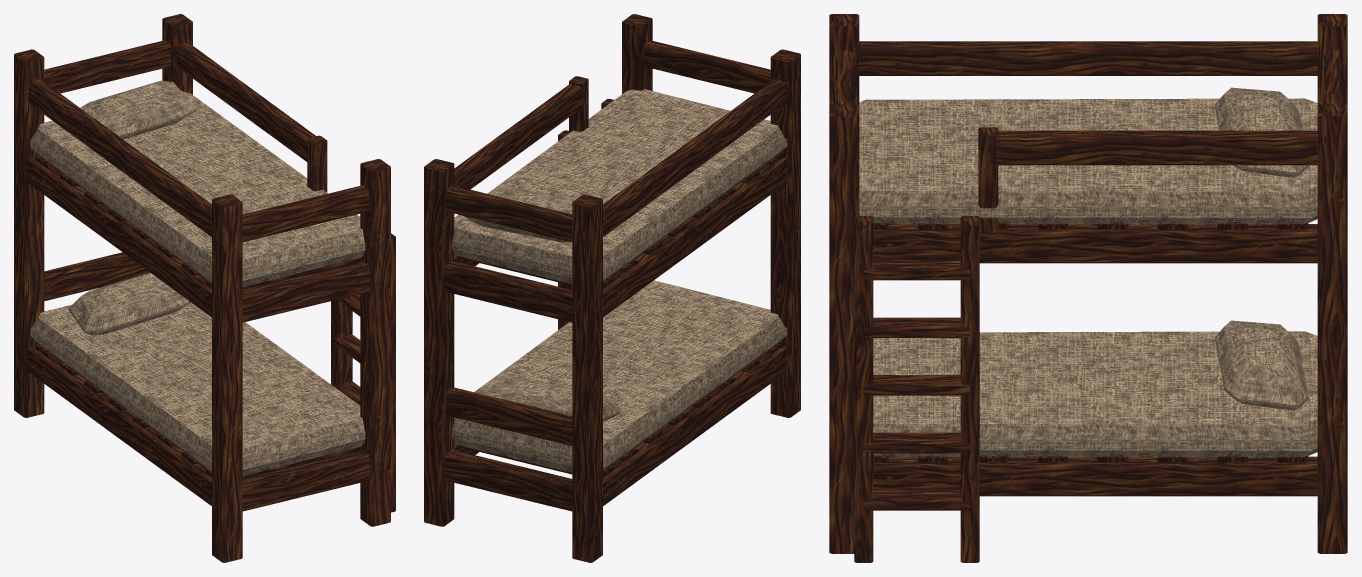
Rendered from Beliche-Sem-Manta.glb.
3 renders of one model, left to right at view 1: azimuth 30°, elevation 25°; view 2: azimuth 150°, elevation 25°; view 3: azimuth 270°, elevation 25°, orthographic. The views are drawn at different scales.
Parts seen in each view (by area): view 1: Pés e montantes, Colchao inferior, Colchao superior, Proteções laterais, Proteções das pontas, Travessas laterais superior, Travessas laterais inferior, Travesseiro 1 inferior, Travessas das pontas inferior, Travessas das pontas superior, Travesseiro 1 superior, Escada (+4 smaller); view 2: Pés e montantes, Colchao inferior, Colchao superior, Proteções laterais, Proteções das pontas, Travessas laterais inferior, Travessas laterais superior, Travessas das pontas inferior, Travessas das pontas superior, Cabeceira inferior, Travesseiro 1 inferior, Travesseiro 1 superior (+2 smaller); view 3: Colchao inferior, Colchao superior, Pés e montantes, Proteções laterais, Travessas laterais superior, Travessas laterais inferior, Escada, Degraus, Travesseiro 1 inferior, Travesseiro 1 superior, Proteções das pontas, Estrado inferior (+1 smaller).
Part boxes in pixels (x1=…): Pés e montantes: x1=14, y1=14, x2=390, y2=562; Colchao inferior: x1=30, y1=303, x2=365, y2=475; Colchao superior: x1=30, y1=91, x2=365, y2=287; Proteções laterais: x1=28, y1=42, x2=327, y2=236; Proteções das pontas: x1=44, y1=40, x2=368, y2=242; Travessas laterais superior: x1=27, y1=155, x2=211, y2=317; Travessas laterais inferior: x1=27, y1=344, x2=211, y2=505; Travesseiro 1 inferior: x1=69, y1=272, x2=191, y2=334; Travessas das pontas inferior: x1=242, y1=449, x2=370, y2=511; Travessas das pontas superior: x1=242, y1=261, x2=370, y2=322; Travesseiro 1 superior: x1=80, y1=80, x2=195, y2=139; Escada: x1=331, y1=233, x2=395, y2=512; Pés e montantes: x1=424, y1=14, x2=800, y2=562; Colchao inferior: x1=452, y1=280, x2=787, y2=472; Colchao superior: x1=452, y1=89, x2=787, y2=283; Proteções laterais: x1=454, y1=76, x2=786, y2=236; Proteções das pontas: x1=446, y1=40, x2=770, y2=242; Travessas laterais inferior: x1=454, y1=346, x2=787, y2=505; Travessas laterais superior: x1=454, y1=157, x2=787, y2=317; Travessas das pontas inferior: x1=444, y1=449, x2=572, y2=511; Travessas das pontas superior: x1=444, y1=261, x2=572, y2=322; Cabeceira inferior: x1=446, y1=387, x2=572, y2=445; Travesseiro 1 inferior: x1=475, y1=378, x2=620, y2=421; Travesseiro 1 superior: x1=464, y1=189, x2=573, y2=242; Colchao inferior: x1=873, y1=331, x2=1317, y2=457; Colchao superior: x1=859, y1=98, x2=1317, y2=224; Pés e montantes: x1=829, y1=14, x2=1347, y2=553; Proteções laterais: x1=859, y1=41, x2=1317, y2=232; Travessas laterais superior: x1=873, y1=224, x2=1317, y2=263; Travessas laterais inferior: x1=873, y1=456, x2=1317, y2=496; Escada: x1=854, y1=216, x2=979, y2=562; Degraus: x1=863, y1=260, x2=969, y2=510; Travesseiro 1 inferior: x1=1215, y1=320, x2=1308, y2=410; Travesseiro 1 superior: x1=1215, y1=87, x2=1308, y2=177; Proteções das pontas: x1=835, y1=50, x2=1341, y2=104; Estrado inferior: x1=873, y1=456, x2=1308, y2=462.
Bounding box in the file's own units: 1.01 × 1.86 × 2.
2 materials, 2 textured.
